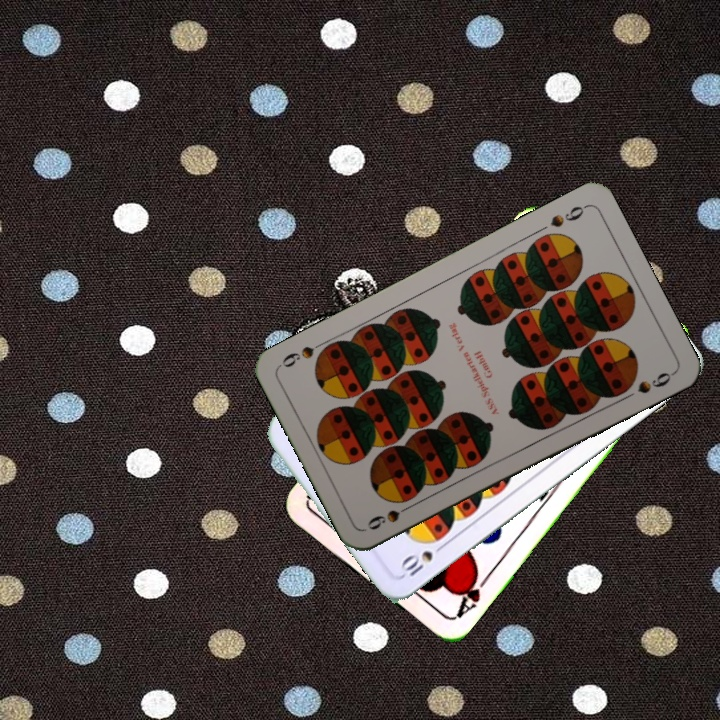HA: (450, 566, 492, 621)
S10: (396, 539, 449, 579)
S9: (363, 499, 418, 533), (545, 201, 590, 230)
